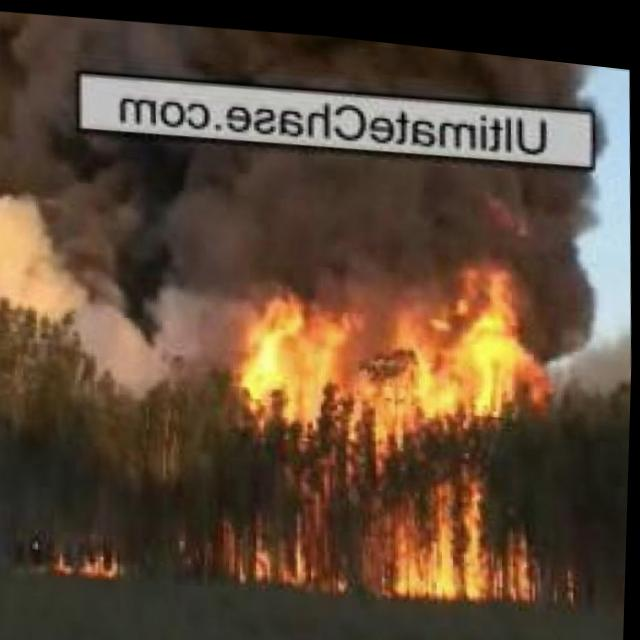Fire: (214, 226, 542, 606), (52, 542, 128, 580)
